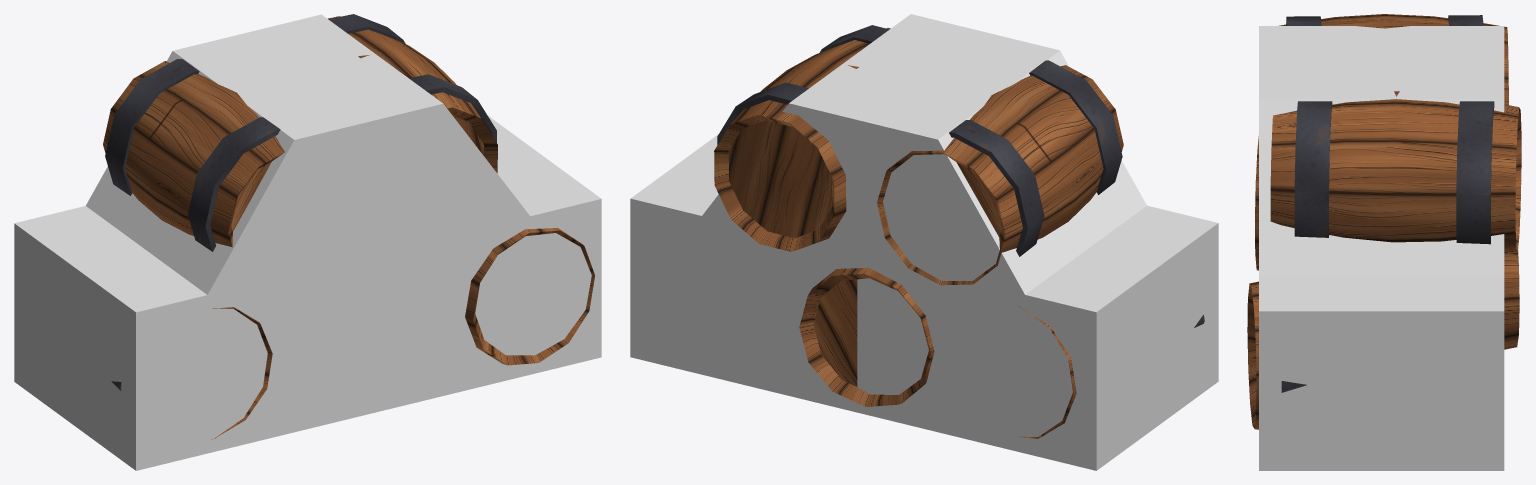
The model's file is SM_Barrel_Stack.fbx.
3 views of the same model, side by side, from view 1: azimuth 30°, elevation 25°; view 2: azimuth 150°, elevation 25°; view 3: azimuth 270°, elevation 25° (orthographic).
Visible parts, largest first — view 1: BarrelStack_Col0, BarrelStack_Col1, BarrelStack_Body; view 2: BarrelStack_Col0, BarrelStack_Body, BarrelStack_Col1; view 3: BarrelStack_Col0, BarrelStack_Body, BarrelStack_Col1.
Boxes of the visible parts, bbox=[...] form: BarrelStack_Col0: bbox=[14, 116, 601, 470]; BarrelStack_Col1: bbox=[86, 14, 529, 294]; BarrelStack_Body: bbox=[103, 14, 594, 439]; BarrelStack_Col0: bbox=[630, 134, 1218, 470]; BarrelStack_Body: bbox=[714, 25, 1204, 438]; BarrelStack_Col1: bbox=[702, 14, 1146, 294]; BarrelStack_Col0: bbox=[1259, 276, 1504, 470]; BarrelStack_Body: bbox=[1247, 14, 1521, 429]; BarrelStack_Col1: bbox=[1259, 26, 1504, 276].
Bounding box in the file's own units: 7.54 × 4.54 × 3.8.
